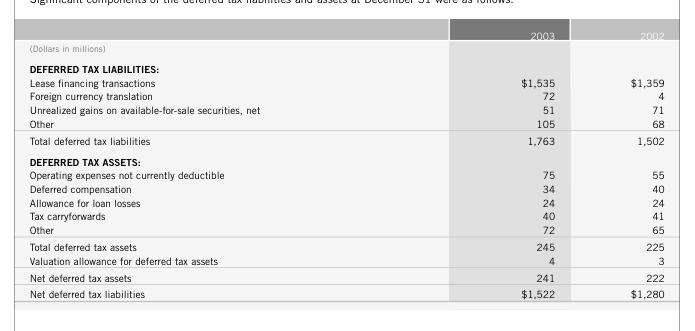table: (28, 28, 663, 299)
table column: (28, 28, 389, 299), (389, 28, 591, 299), (591, 28, 663, 299)
table column header: (28, 28, 663, 41)
table projected row header: (28, 57, 663, 75), (28, 150, 663, 167), (28, 41, 663, 57)
table row: (28, 131, 663, 150), (28, 57, 663, 75), (28, 150, 663, 167), (28, 268, 663, 285), (28, 41, 663, 57), (28, 237, 663, 253), (28, 116, 663, 131), (28, 222, 663, 237), (28, 253, 663, 268), (28, 88, 663, 102), (28, 102, 663, 116), (28, 167, 663, 181), (28, 181, 663, 195), (28, 208, 663, 222), (28, 285, 663, 299), (28, 28, 663, 41), (28, 75, 663, 88), (28, 195, 663, 208)
